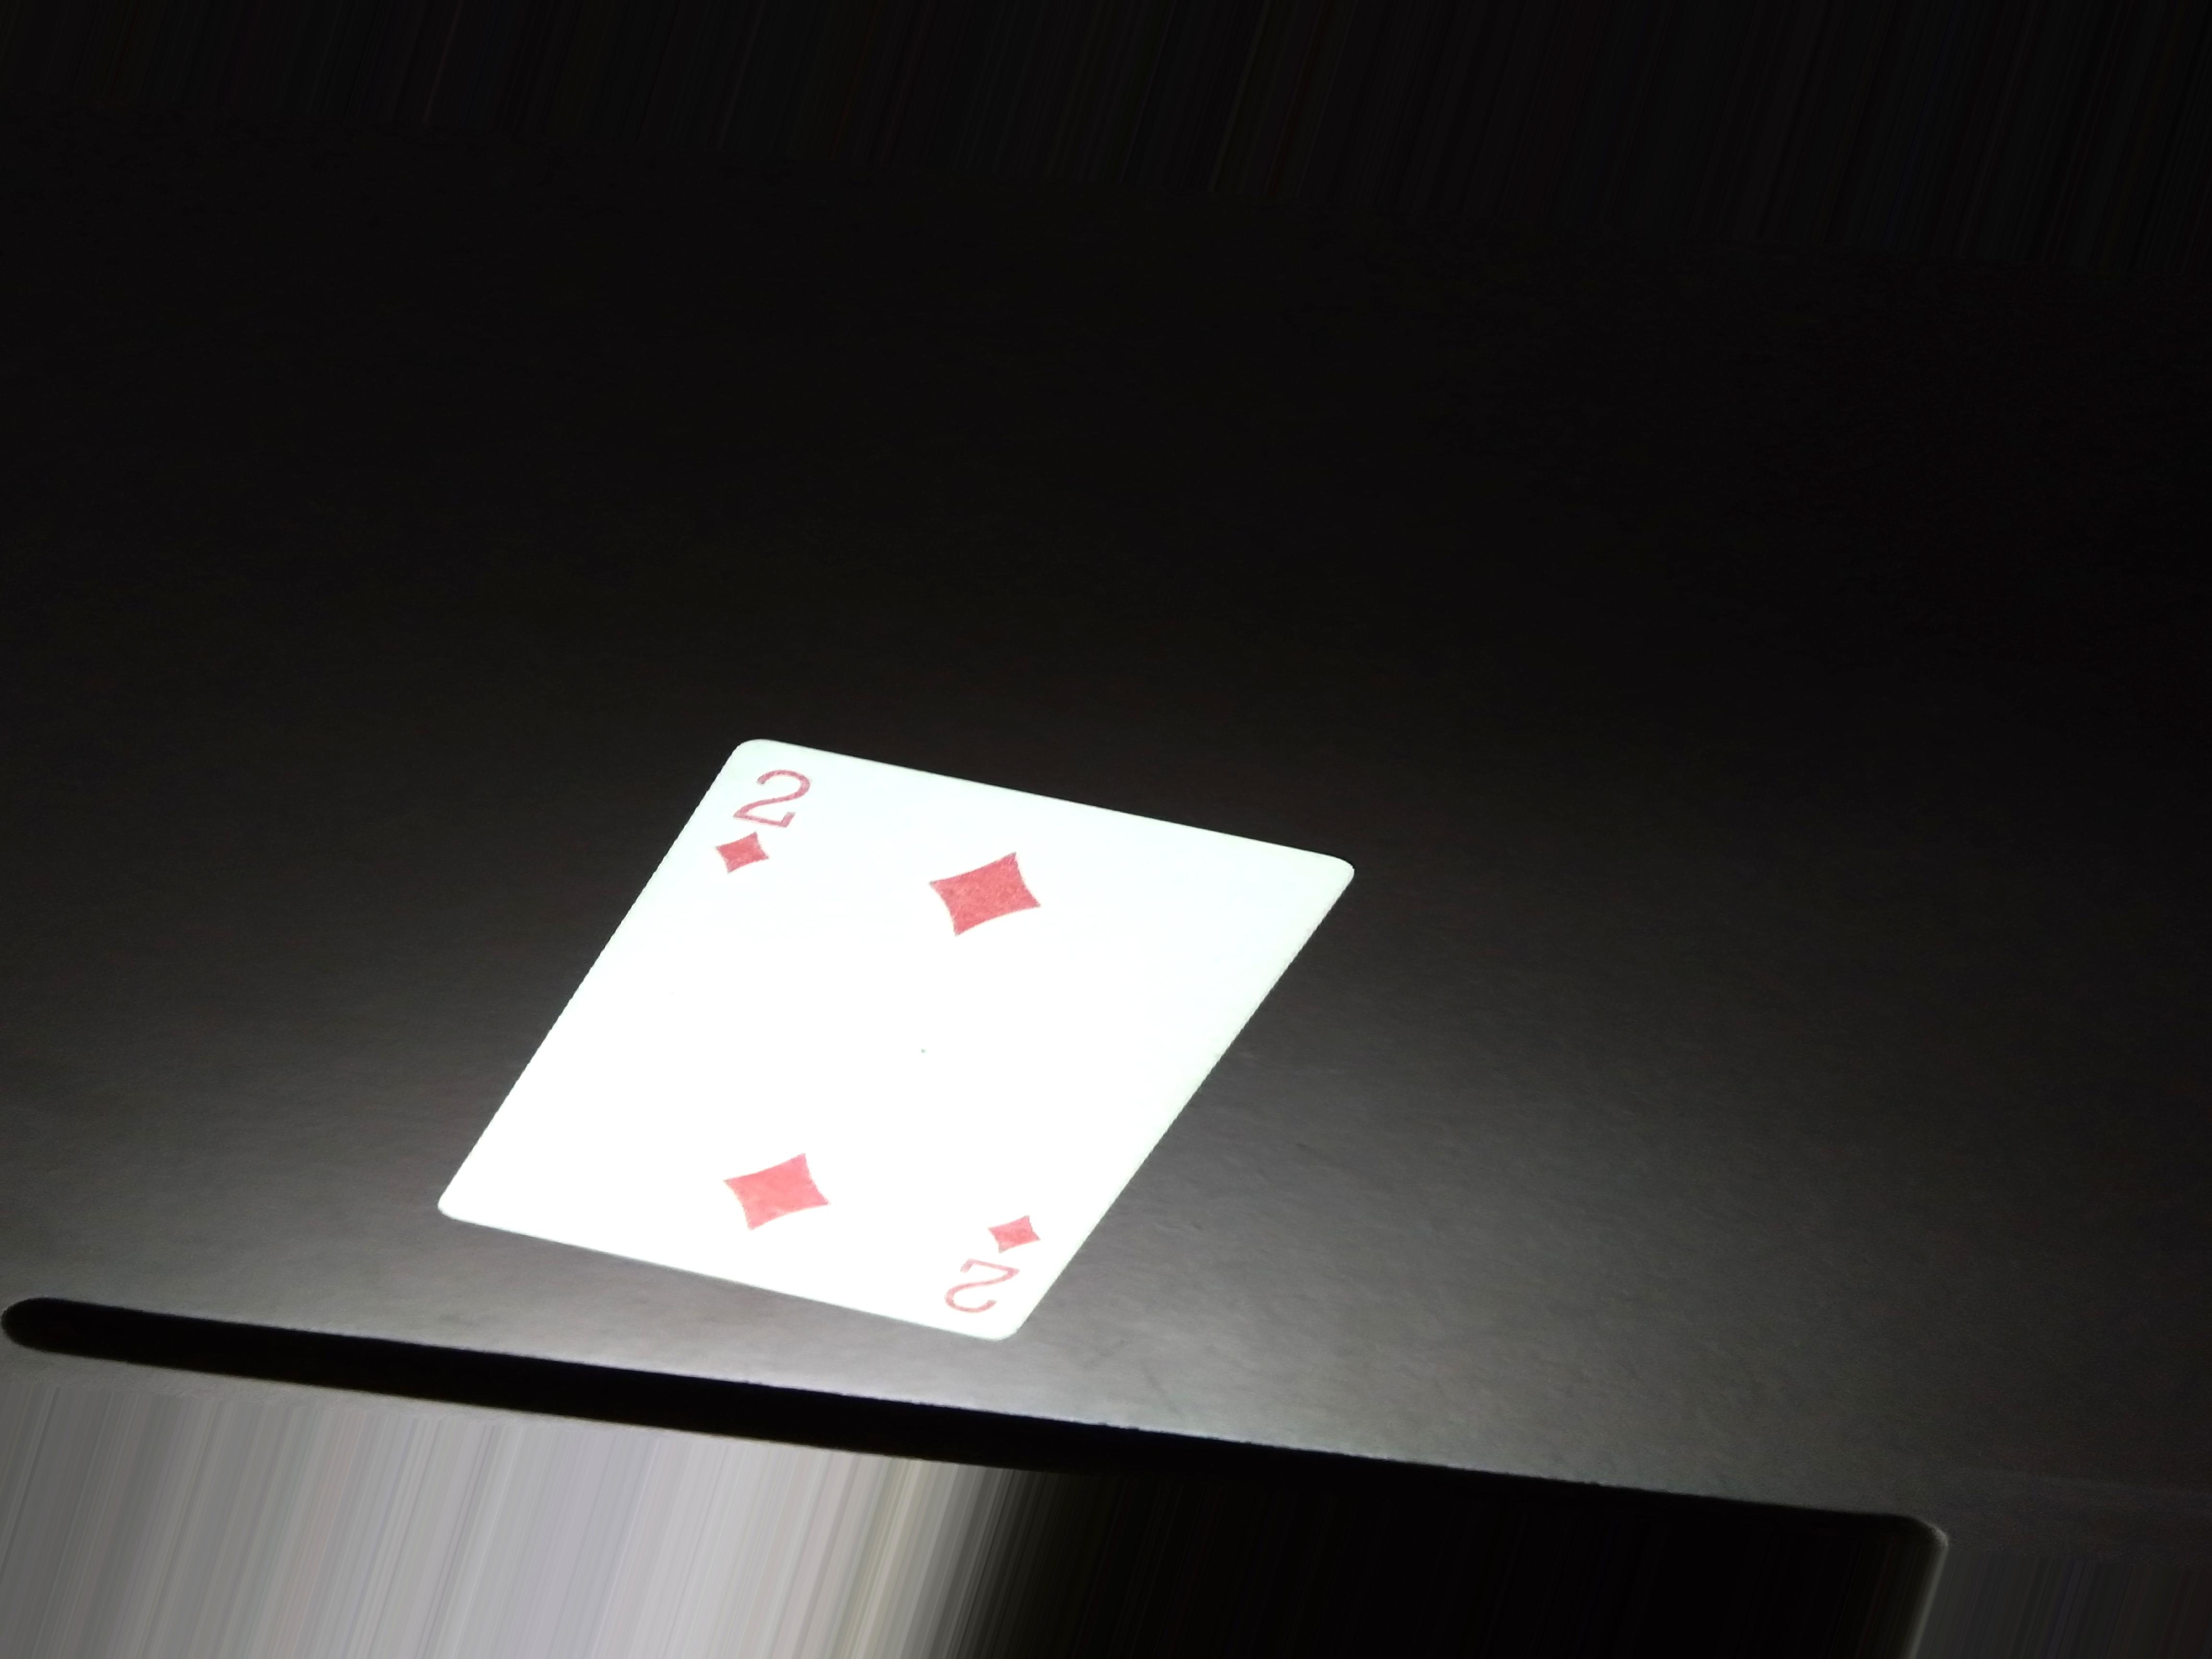2D: (730, 749, 801, 889)
